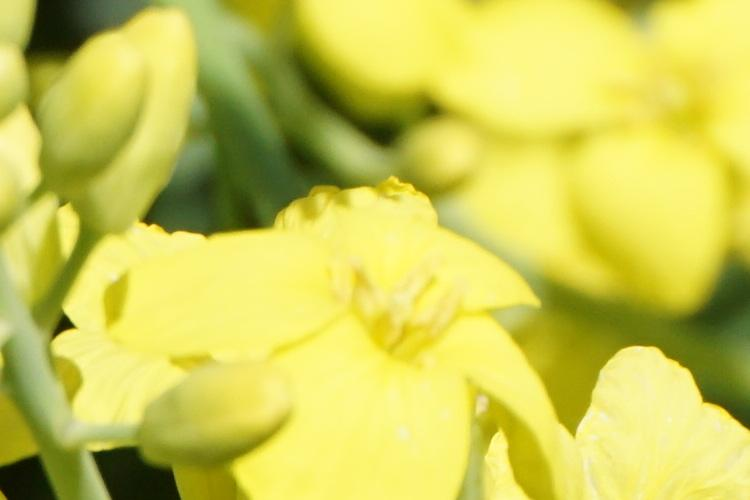bud: (92, 13, 214, 245), (130, 356, 299, 467), (35, 28, 137, 203)
yellow: (162, 166, 557, 491), (477, 329, 750, 495)
